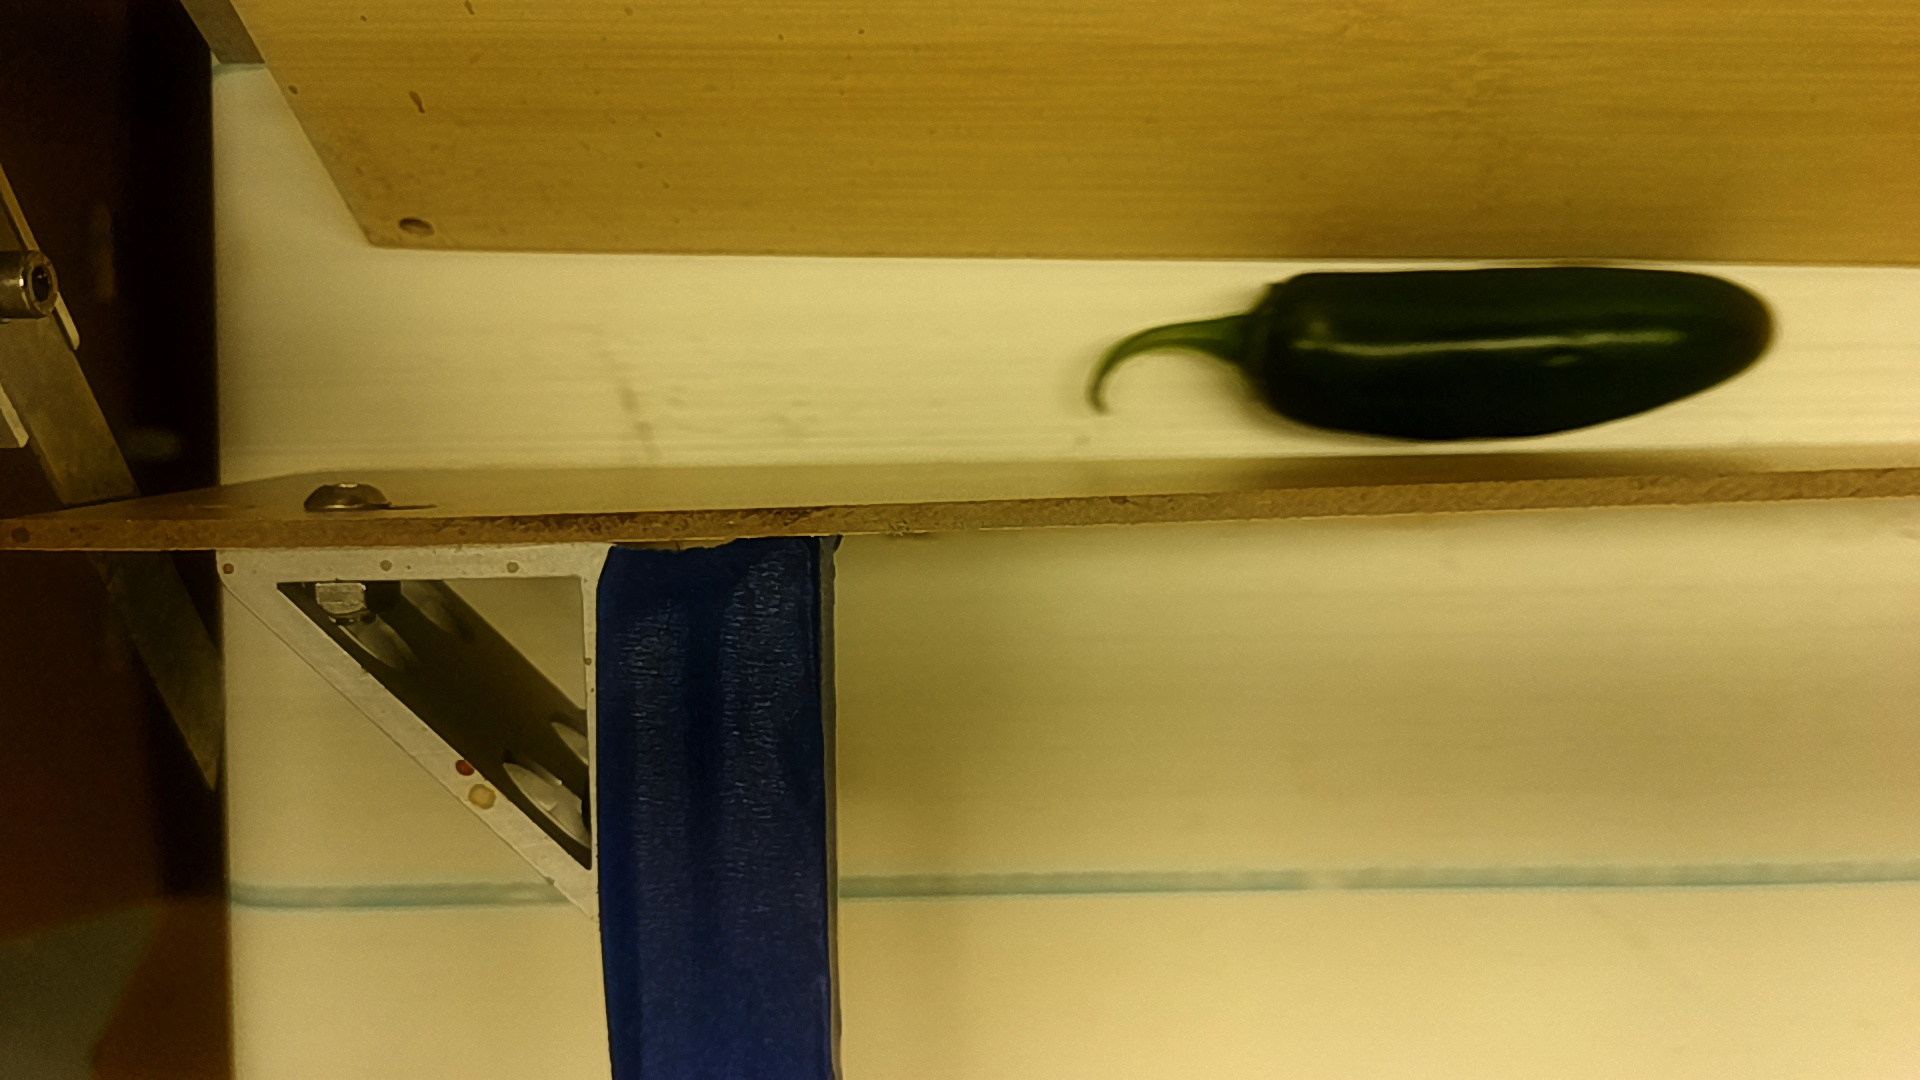Cut Point: (1224, 265, 1302, 429)
